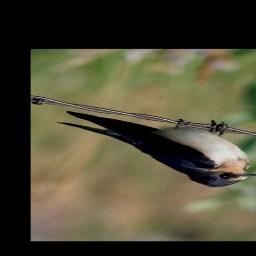Swallow: (57, 107, 256, 189)
